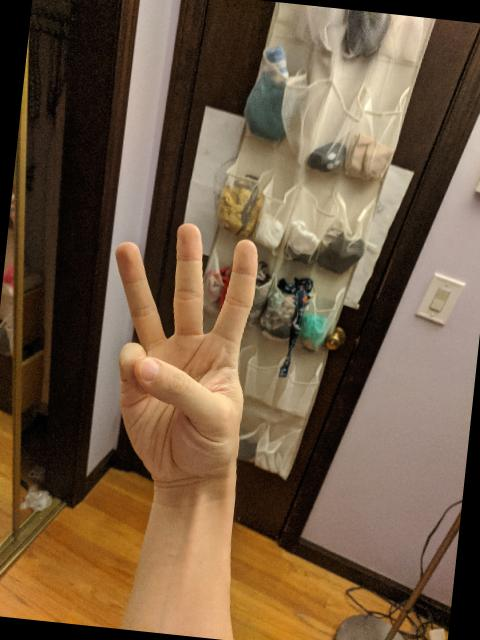W: (90, 212, 270, 492)
